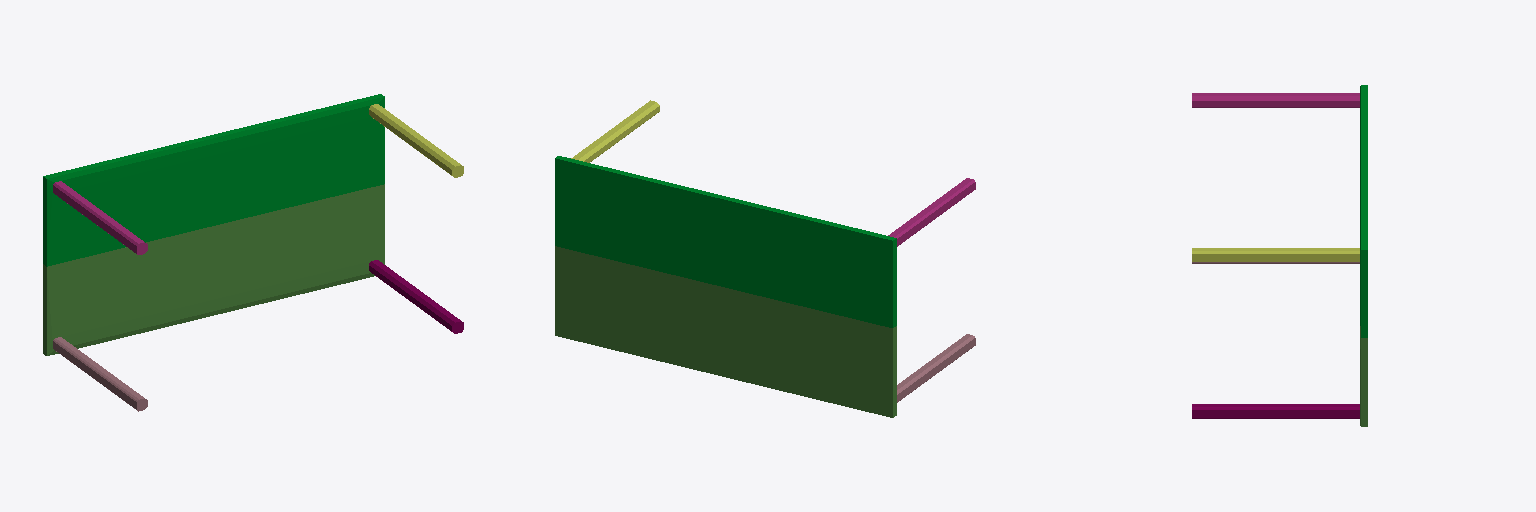
Rendered from Table_Lab.obj.
3 renders of one model, left to right at view 1: azimuth 30°, elevation 25°; view 2: azimuth 150°, elevation 25°; view 3: azimuth 270°, elevation 25°, orthographic.
Visible parts, largest first — view 1: Shape_IndexedFaceSet_Shape_IndexedFaceSet.183, Shape_IndexedFaceSet.001_Shape_IndexedFaceSet.184, Shape_IndexedFaceSet.002_Shape_IndexedFaceSet.185, Shape_IndexedFaceSet.005_Shape_IndexedFaceSet.188, Shape_IndexedFaceSet.003_Shape_IndexedFaceSet.186, Shape_IndexedFaceSet.004_Shape_IndexedFaceSet.187; view 2: Shape_IndexedFaceSet.001_Shape_IndexedFaceSet.184, Shape_IndexedFaceSet_Shape_IndexedFaceSet.183, Shape_IndexedFaceSet.004_Shape_IndexedFaceSet.187, Shape_IndexedFaceSet.005_Shape_IndexedFaceSet.188, Shape_IndexedFaceSet.002_Shape_IndexedFaceSet.185; view 3: Shape_IndexedFaceSet.004_Shape_IndexedFaceSet.187, Shape_IndexedFaceSet.003_Shape_IndexedFaceSet.186, Shape_IndexedFaceSet.005_Shape_IndexedFaceSet.188, Shape_IndexedFaceSet.001_Shape_IndexedFaceSet.184, Shape_IndexedFaceSet_Shape_IndexedFaceSet.183.
Boxes of the visible parts, box(x1,y1,x2,y2) form: Shape_IndexedFaceSet_Shape_IndexedFaceSet.183: box(43, 184, 384, 355); Shape_IndexedFaceSet.001_Shape_IndexedFaceSet.184: box(43, 94, 384, 266); Shape_IndexedFaceSet.002_Shape_IndexedFaceSet.185: box(53, 337, 147, 411); Shape_IndexedFaceSet.005_Shape_IndexedFaceSet.188: box(369, 104, 463, 177); Shape_IndexedFaceSet.003_Shape_IndexedFaceSet.186: box(369, 260, 463, 333); Shape_IndexedFaceSet.004_Shape_IndexedFaceSet.187: box(53, 181, 147, 254); Shape_IndexedFaceSet.001_Shape_IndexedFaceSet.184: box(555, 156, 896, 327); Shape_IndexedFaceSet_Shape_IndexedFaceSet.183: box(555, 246, 896, 417); Shape_IndexedFaceSet.004_Shape_IndexedFaceSet.187: box(888, 178, 975, 246); Shape_IndexedFaceSet.005_Shape_IndexedFaceSet.188: box(571, 100, 659, 162); Shape_IndexedFaceSet.002_Shape_IndexedFaceSet.185: box(897, 334, 975, 402); Shape_IndexedFaceSet.004_Shape_IndexedFaceSet.187: box(1192, 93, 1359, 107); Shape_IndexedFaceSet.003_Shape_IndexedFaceSet.186: box(1192, 404, 1359, 418); Shape_IndexedFaceSet.005_Shape_IndexedFaceSet.188: box(1192, 248, 1359, 261); Shape_IndexedFaceSet.001_Shape_IndexedFaceSet.184: box(1360, 85, 1367, 337); Shape_IndexedFaceSet_Shape_IndexedFaceSet.183: box(1360, 326, 1367, 426).
Bounding box in the file's own units: 160 × 80.44 × 72.49.